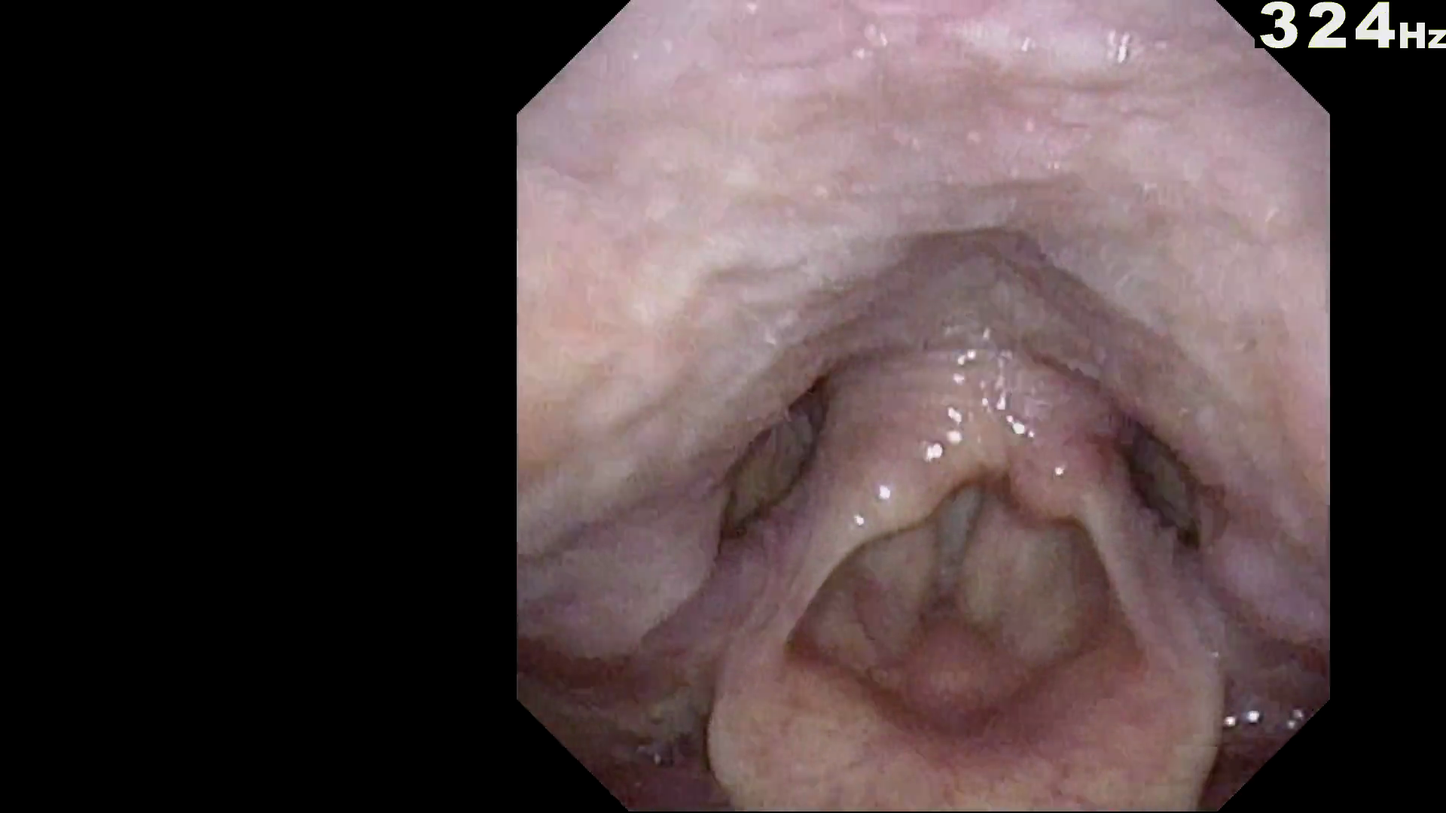epiglottis: (695, 590, 1239, 795)
trachea: (921, 489, 1028, 603)
